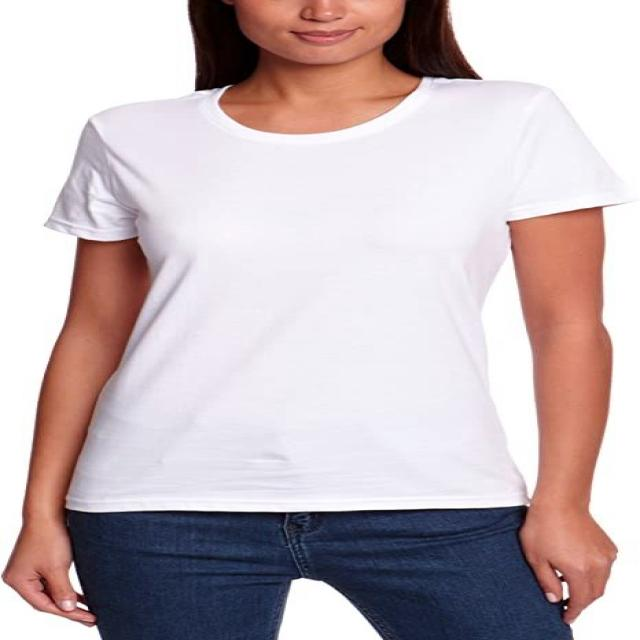shoulder: (69, 76, 606, 175)
